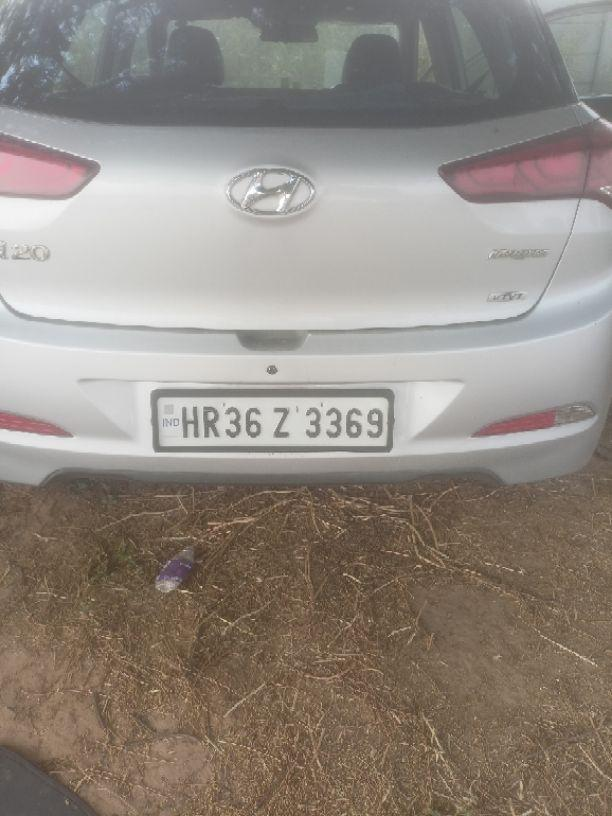license_plate: (150, 386, 394, 452)
